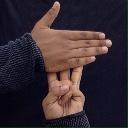hand: (30, 0, 112, 73), (41, 62, 87, 121)
